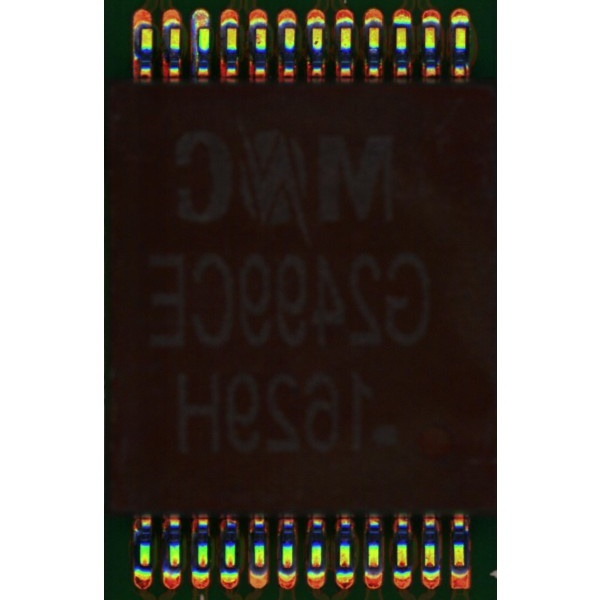Bad_podu: (198, 21, 207, 35)
Bad_qiaojiao: (192, 30, 199, 70)
